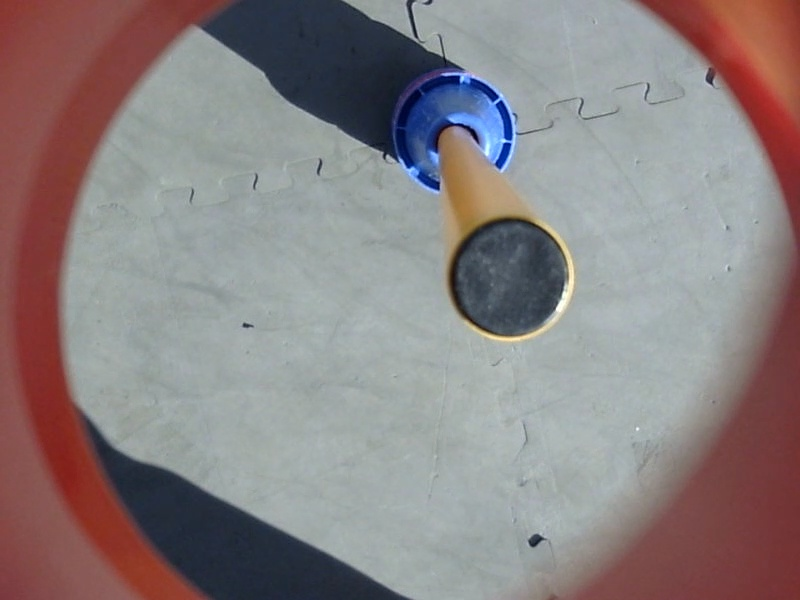tip: (443, 209, 582, 347)
